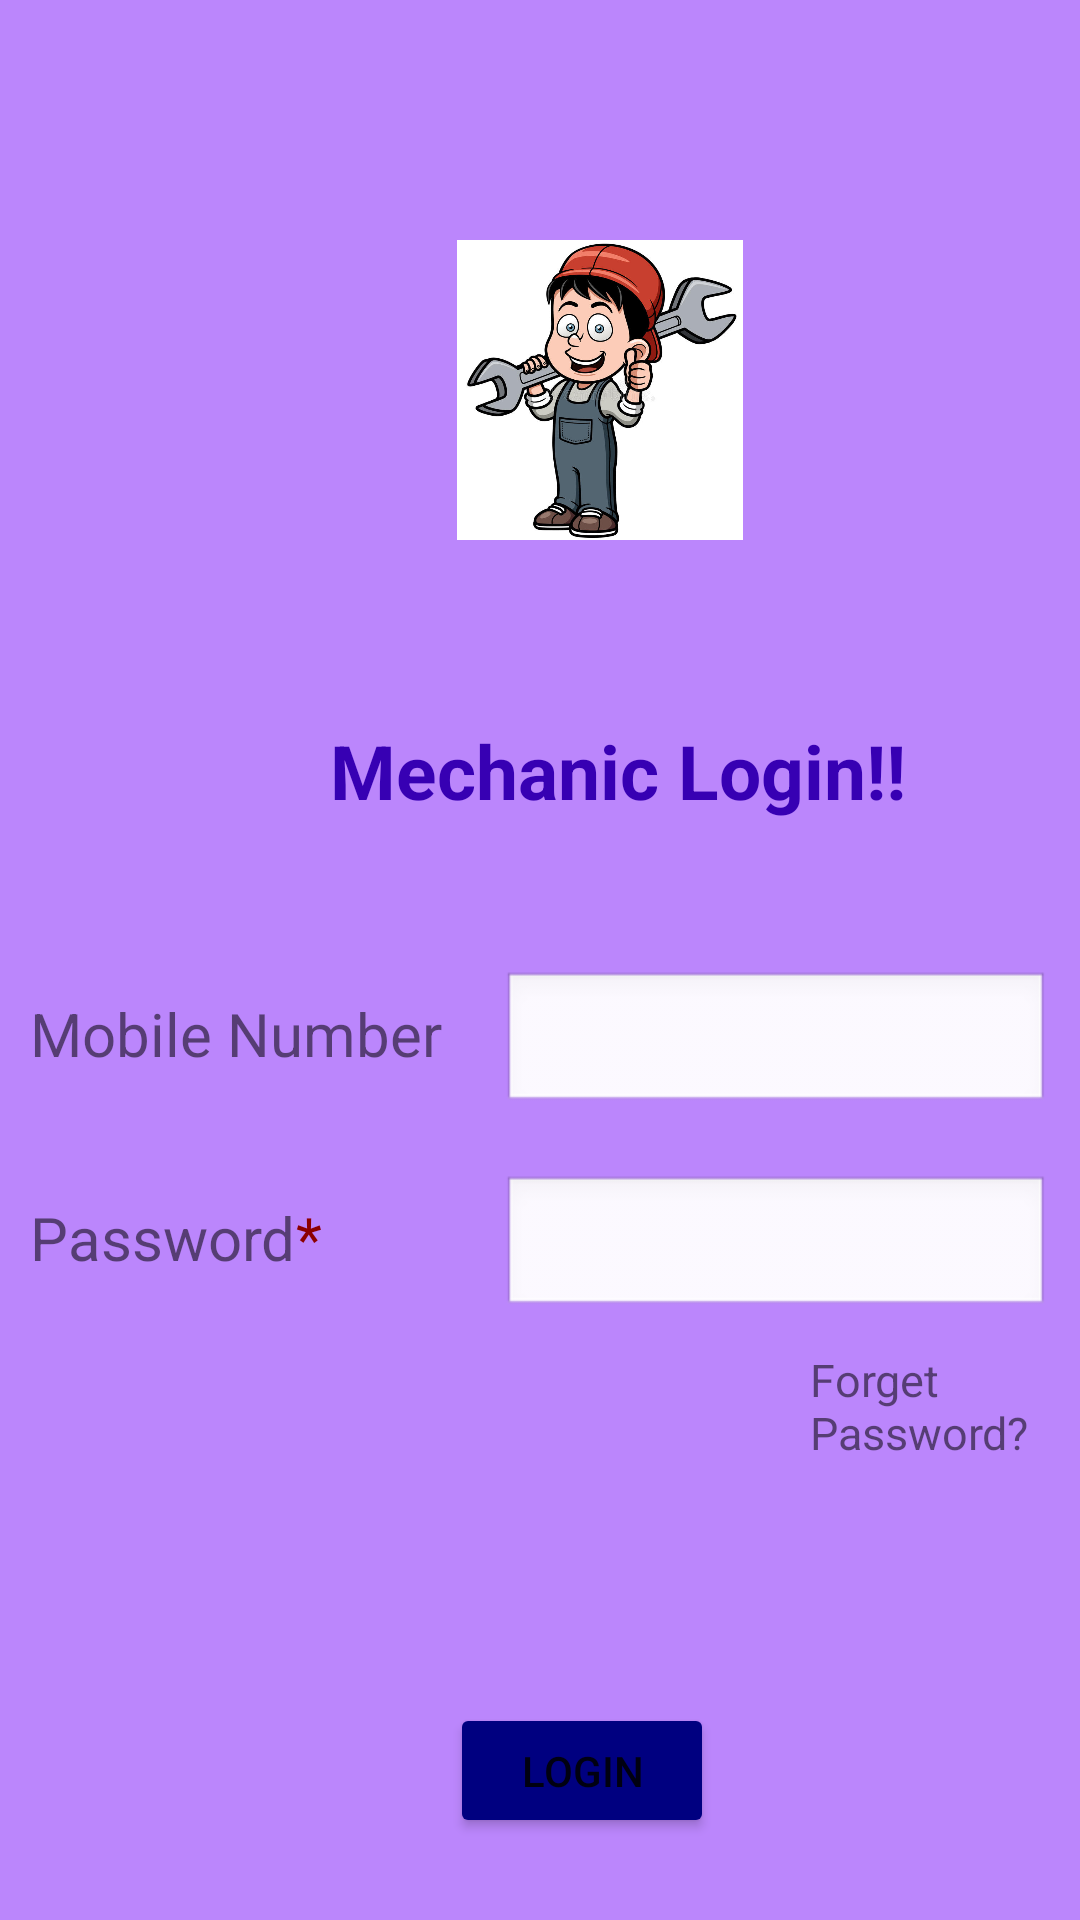

Locate icon controls on the screen. Image size 1080 x 1920, boxes as (x1, y1, x2, y2).
mechanic: (457, 240, 743, 540)
